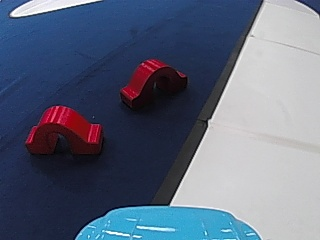bridge: (21, 101, 101, 157), (118, 56, 186, 110)
